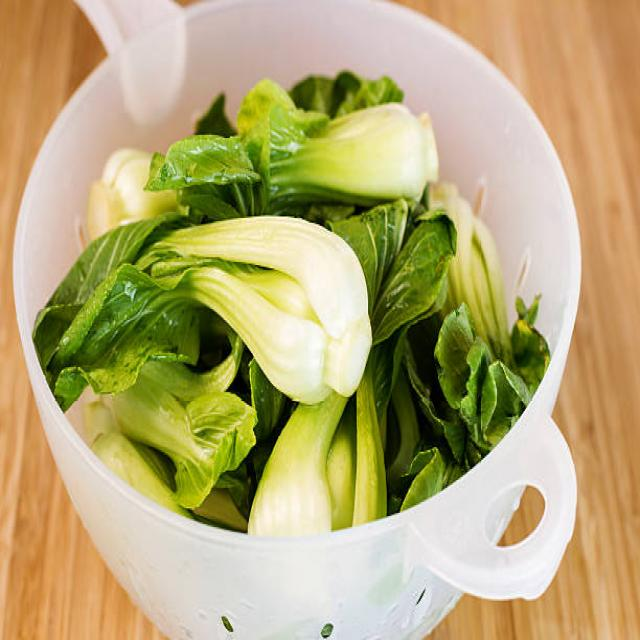Bok Choy: (74, 222, 388, 416), (225, 73, 441, 199), (254, 422, 390, 536), (455, 274, 532, 419)
